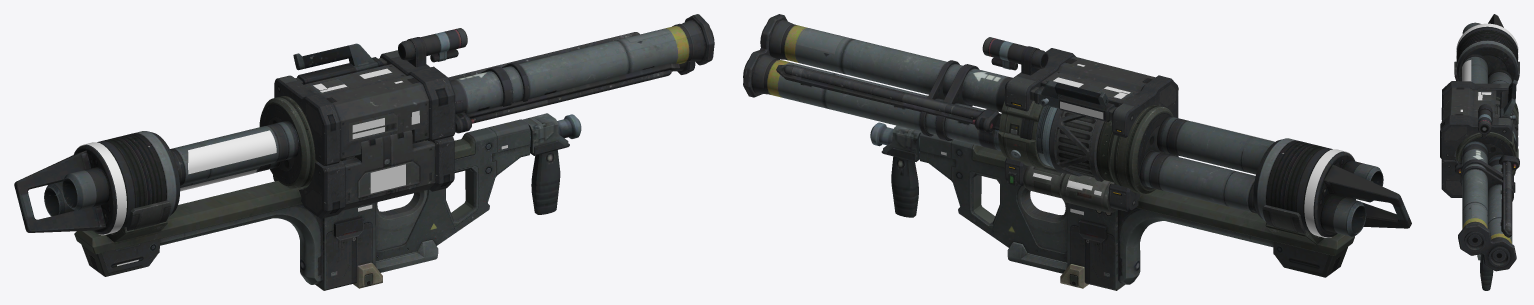
File: M41_3rdP_Rigged.fbx
3 views of the same model, side by side, from view 1: azimuth 30°, elevation 25°; view 2: azimuth 150°, elevation 25°; view 3: azimuth 270°, elevation 25° (orthographic). The views are drawn at different scales.
Parts seen in each view (by area): view 1: Launcher, LauncherTubes1; view 2: LauncherTubes1, Launcher; view 3: LauncherTubes1, Launcher.
Boxes of the visible parts, x1,y1,x2,y2 form: Launcher: (74, 28, 581, 290); LauncherTubes1: (14, 14, 714, 235); LauncherTubes1: (743, 14, 1411, 237); Launcher: (870, 37, 1354, 290); LauncherTubes1: (1455, 14, 1519, 271); Launcher: (1440, 61, 1519, 290).
Bounding box in the file's own units: 116 × 37.5 × 17.63.
Materials: 3 (1 with a texture image).
